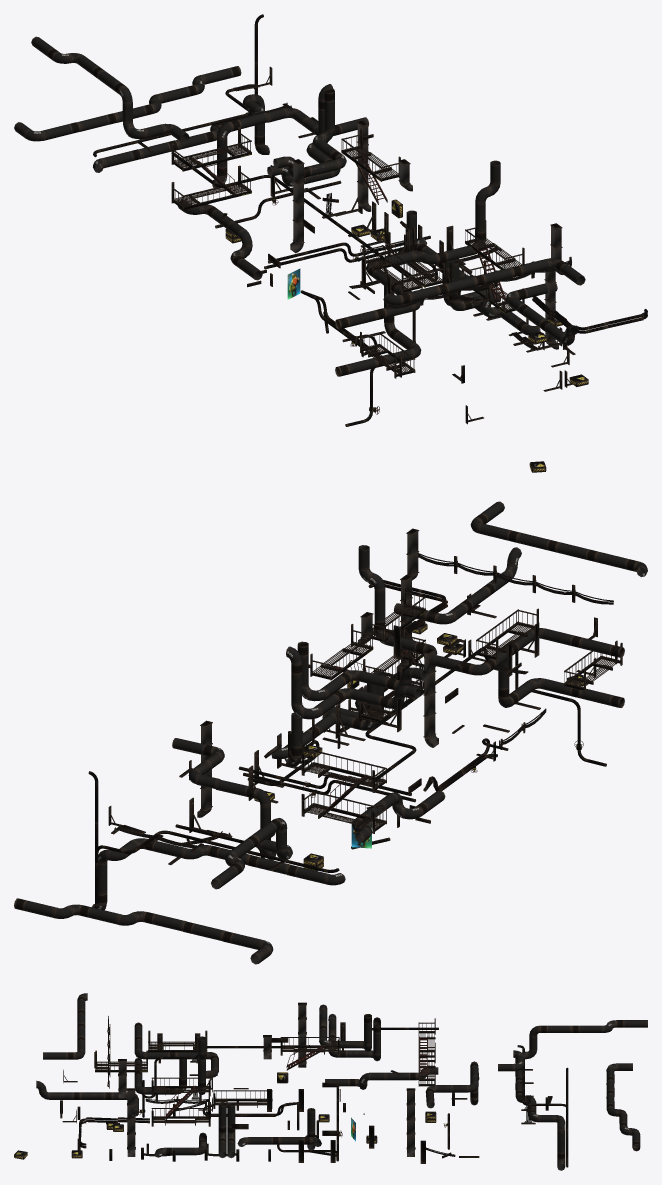
Rendered from city_pipes.glb.
3 renders of one model, top to bottom at view 1: azimuth 30°, elevation 25°; view 2: azimuth 150°, elevation 25°; view 3: azimuth 270°, elevation 25°, orthographic. The views are drawn at different scales.
Visible parts, largest first — view 1: balcony_7, balcony_3, balcony_2, balcony_1, balcony_17, balcony_5, balcony_14; view 2: balcony_7, balcony_2, balcony_3, balcony_1, balcony_17, balcony_5; view 3: balcony_3, balcony_14, balcony_5, balcony_1, balcony_10, balcony_17, balcony_7, balcony_2, pipe__5__1, pipe__32_, pipe__1_.
Boxes of the visible parts, left/top/right/bottom form: balcony_7: left=171, top=127, right=251, bottom=171; balcony_3: left=363, top=244, right=422, bottom=293; balcony_2: left=171, top=165, right=251, bottom=209; balcony_1: left=341, top=128, right=400, bottom=181; balcony_17: left=360, top=332, right=415, bottom=378; balcony_5: left=465, top=220, right=524, bottom=269; balcony_14: left=385, top=234, right=444, bottom=287; balcony_7: left=301, top=750, right=386, bottom=792; balcony_2: left=301, top=791, right=386, bottom=833; balcony_3: left=476, top=608, right=538, bottom=661; balcony_1: left=310, top=624, right=373, bottom=680; balcony_17: left=564, top=642, right=622, bottom=692; balcony_5: left=371, top=585, right=425, bottom=642; balcony_3: left=148, top=1030, right=207, bottom=1052; balcony_14: left=213, top=1090, right=272, bottom=1108; balcony_5: left=151, top=1077, right=210, bottom=1096; balcony_1: left=280, top=1037, right=339, bottom=1055; balcony_10: left=151, top=1108, right=210, bottom=1126; balcony_17: left=95, top=1050, right=147, bottom=1072; balcony_7: left=418, top=1018, right=435, bottom=1058; balcony_2: left=418, top=1052, right=435, bottom=1086; pipe__5__1: left=385, top=1072, right=417, bottom=1080; pipe__32_: left=218, top=1102, right=226, bottom=1134; pipe__1_: left=164, top=1147, right=196, bottom=1155.
Bounding box in the file's own units: 29.64 × 21.1 × 79.84.
Materials: 4 (4 with a texture image).
